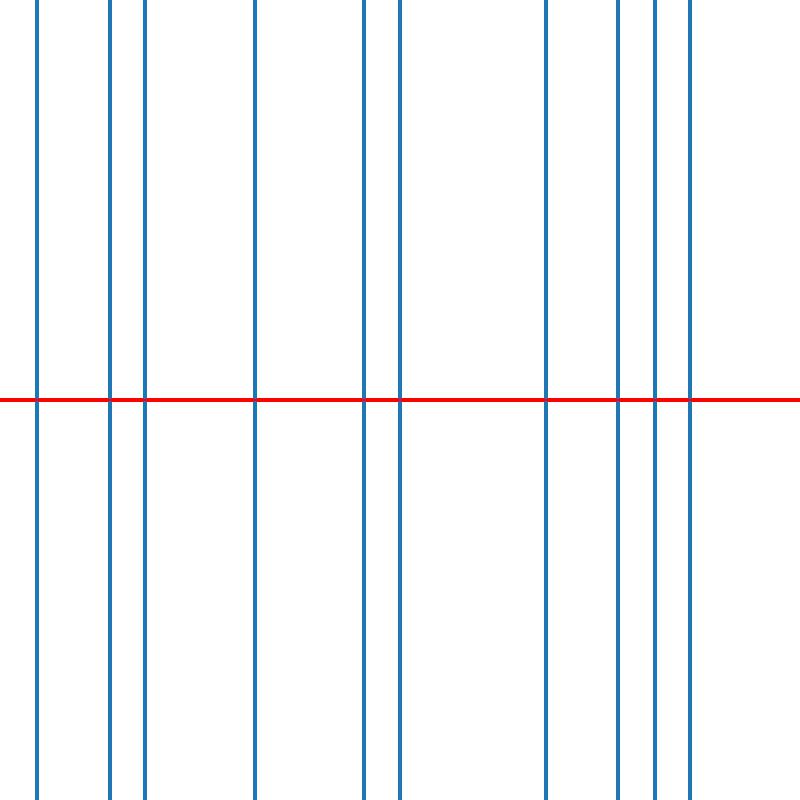root: (141, 396, 149, 404), (250, 396, 258, 404), (650, 396, 658, 404), (32, 396, 40, 404), (541, 396, 549, 404), (105, 396, 112, 404), (396, 396, 403, 404), (614, 396, 621, 404), (360, 396, 367, 404), (687, 396, 694, 404)
